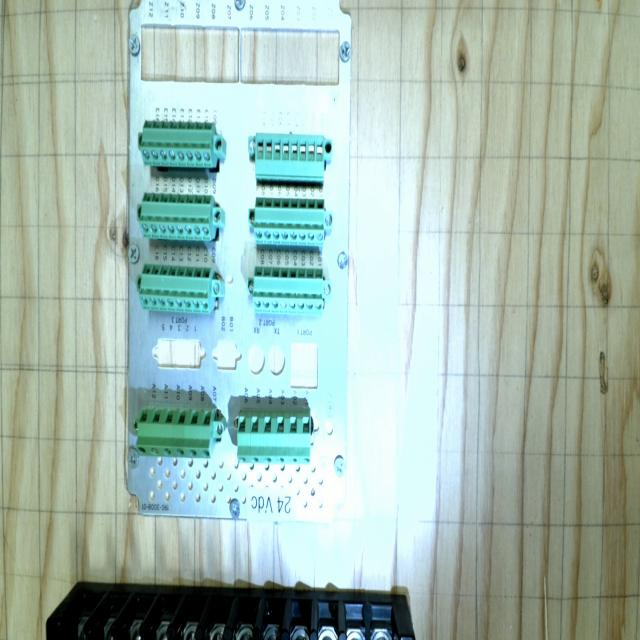Terminal_1: (136, 408, 213, 459), (237, 414, 310, 464)
Terminal_2: (138, 264, 212, 314), (253, 196, 325, 246), (252, 266, 324, 316), (139, 192, 212, 241), (140, 121, 213, 167)
